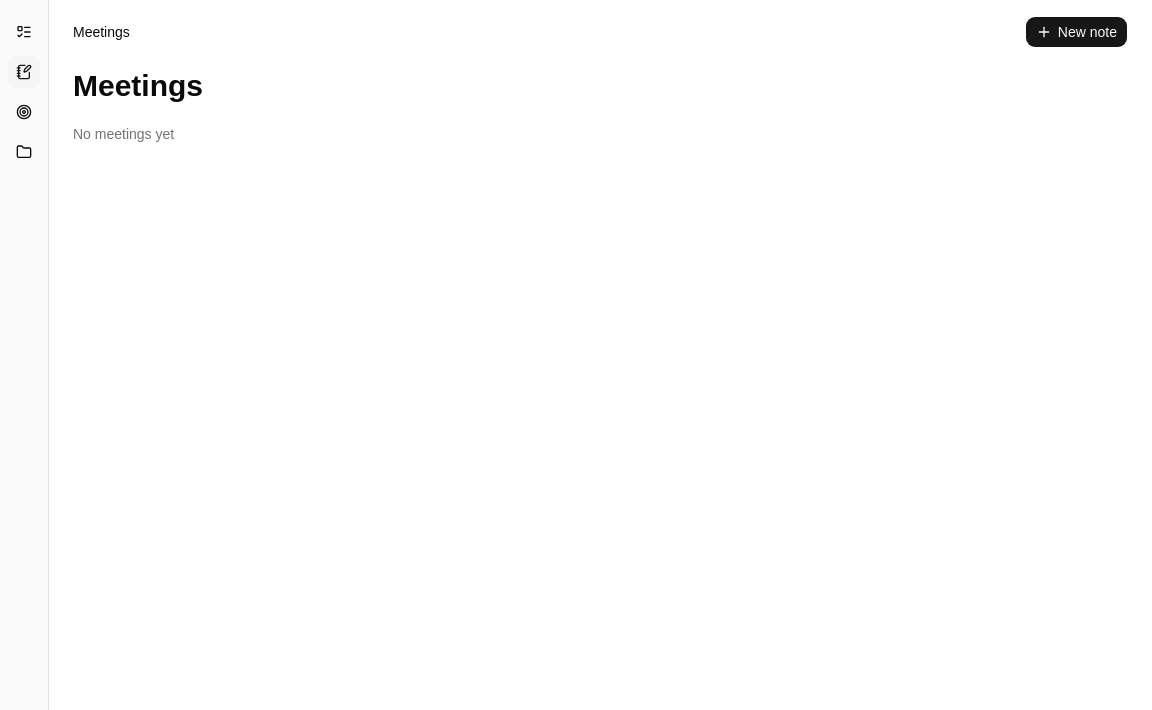
Test: The tasks of a project › lists Current, then the Backlog, then the Icebox newest first, without completed or deleted tasks
This screenshot has width=1152, height=710.
Step 1. Click the 4th link named "Projects" → (24, 152), box [8,136,40,168]
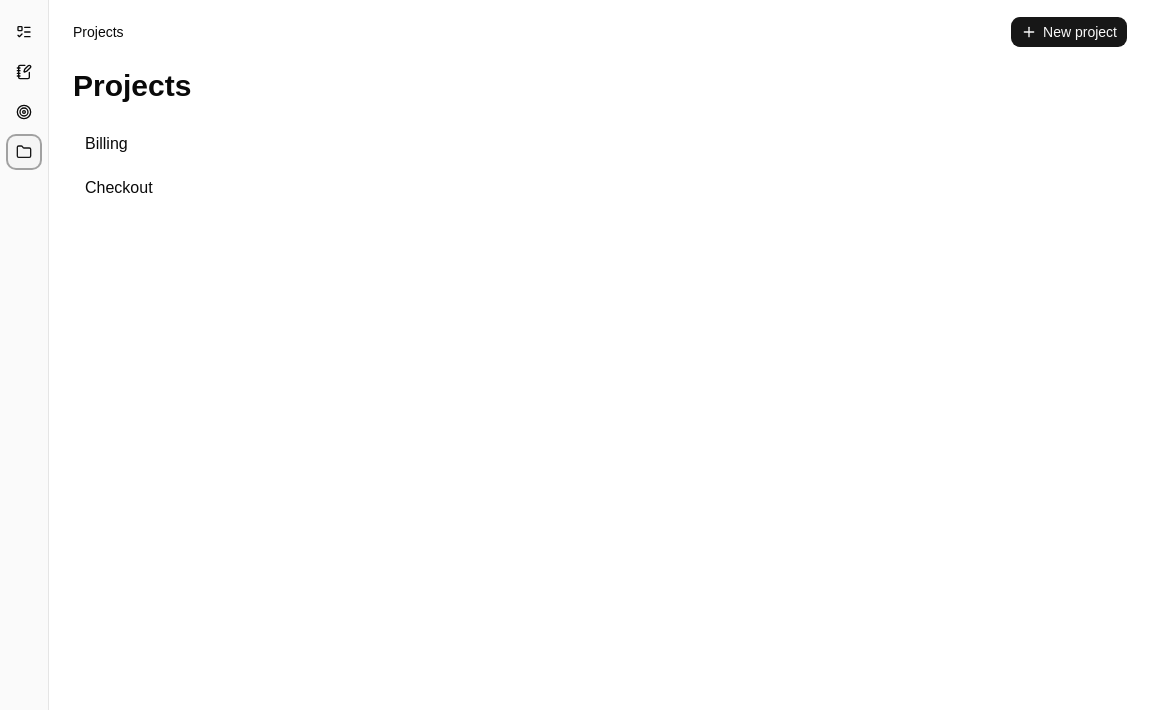
Step 2. Click the link "Checkout" → (119, 188), box [85,179,153,196]
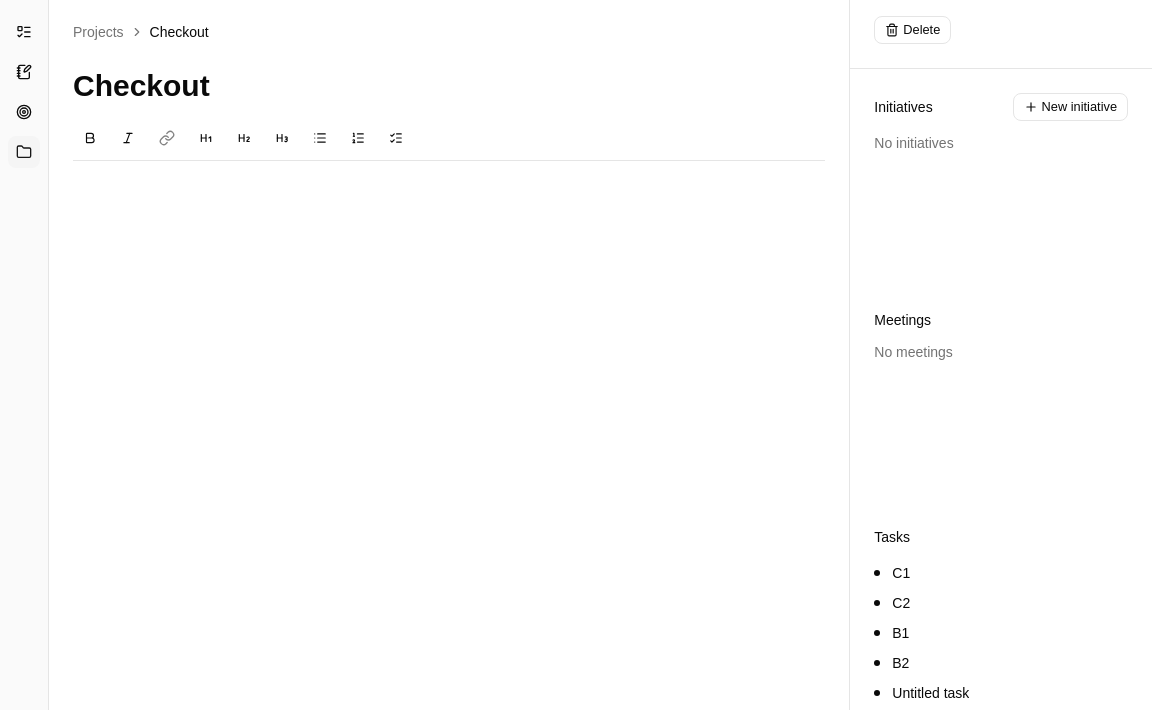
Result: the field named "Project name" holds "Checkout" at [73,64,825,108]
